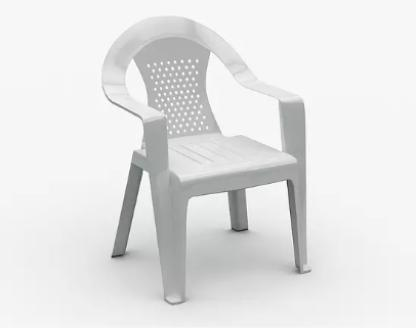chair: (98, 10, 316, 308)
